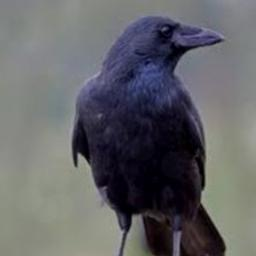Crow: (72, 15, 227, 256)
